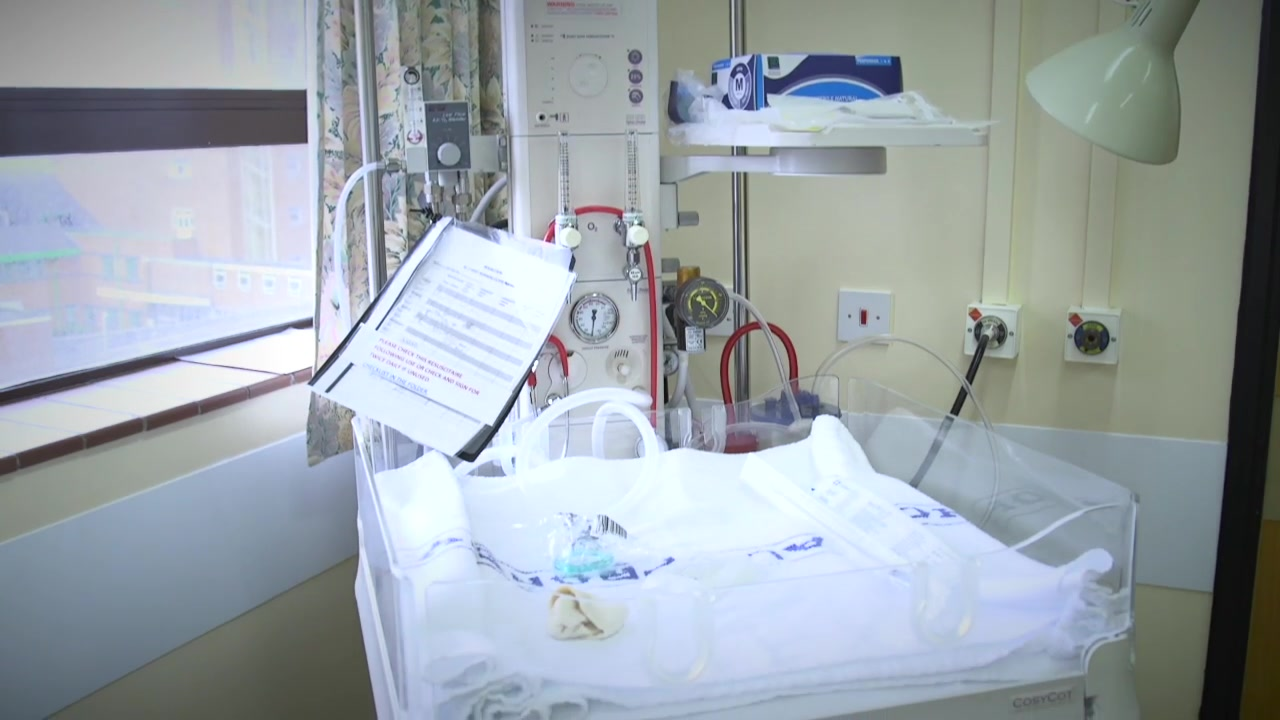curtain: (305, 1, 509, 466)
panda_baby_warmer: (361, 1, 1142, 720)
